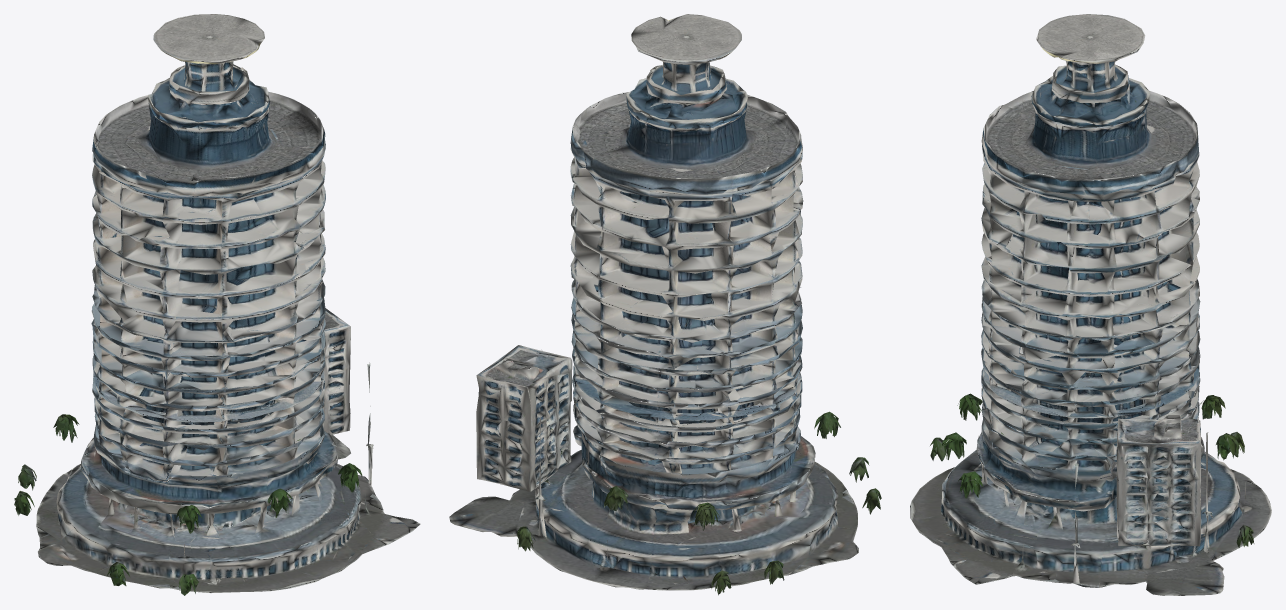
File: tower_l.glb
The picture shows the model from 3 angles, left to right: view 1: azimuth 30°, elevation 25°; view 2: azimuth 150°, elevation 25°; view 3: azimuth 270°, elevation 25°; orthographic projection.
Size of the model in its own units: 1.41 by 1.88 by 1.3.
Materials: 1 (1 with a texture image).
